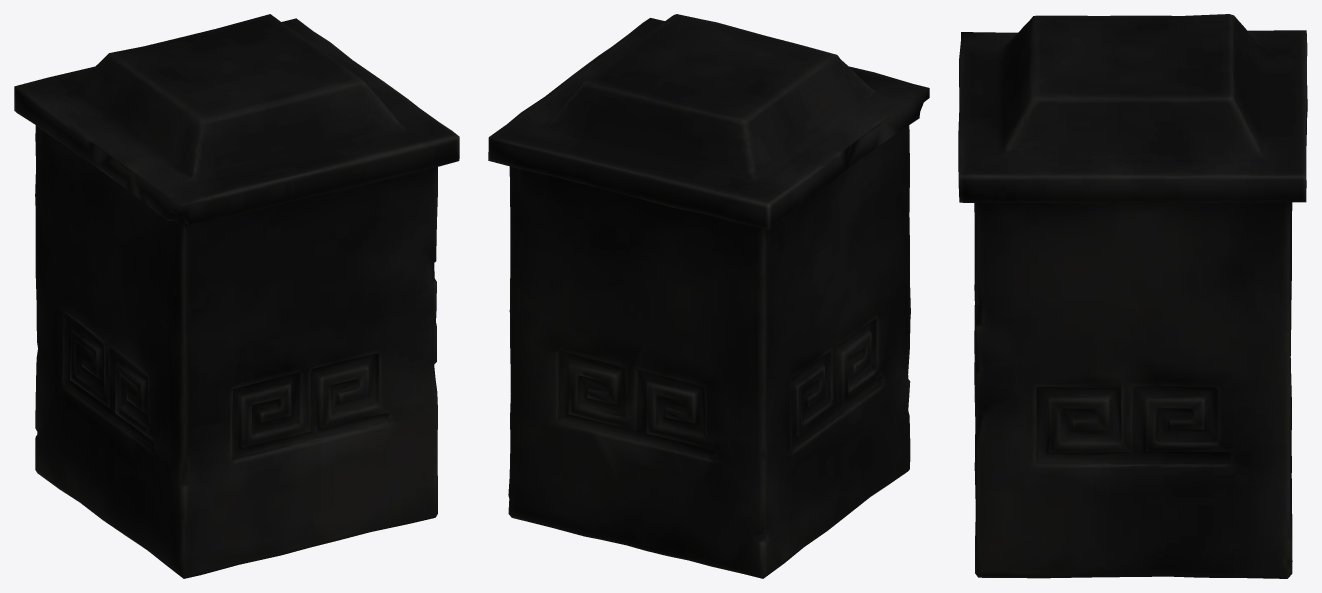
File: serpent-wall-corner-basalt.glb
The picture shows the model from 3 angles, left to right: view 1: azimuth 30°, elevation 25°; view 2: azimuth 150°, elevation 25°; view 3: azimuth 270°, elevation 25°; orthographic projection. The views are drawn at different scales.
Parts seen in each view (by area): view 1: serpent_wall_corner; view 2: serpent_wall_corner; view 3: serpent_wall_corner.
Part boxes in pixels (left/top/right/bottom): serpent_wall_corner: left=14, top=14, right=459, bottom=578; serpent_wall_corner: left=488, top=14, right=929, bottom=578; serpent_wall_corner: left=958, top=14, right=1307, bottom=578.
Bounding box in the file's own units: 0.3315 × 0.4846 × 0.3331.
Materials: 1 (1 with a texture image).
